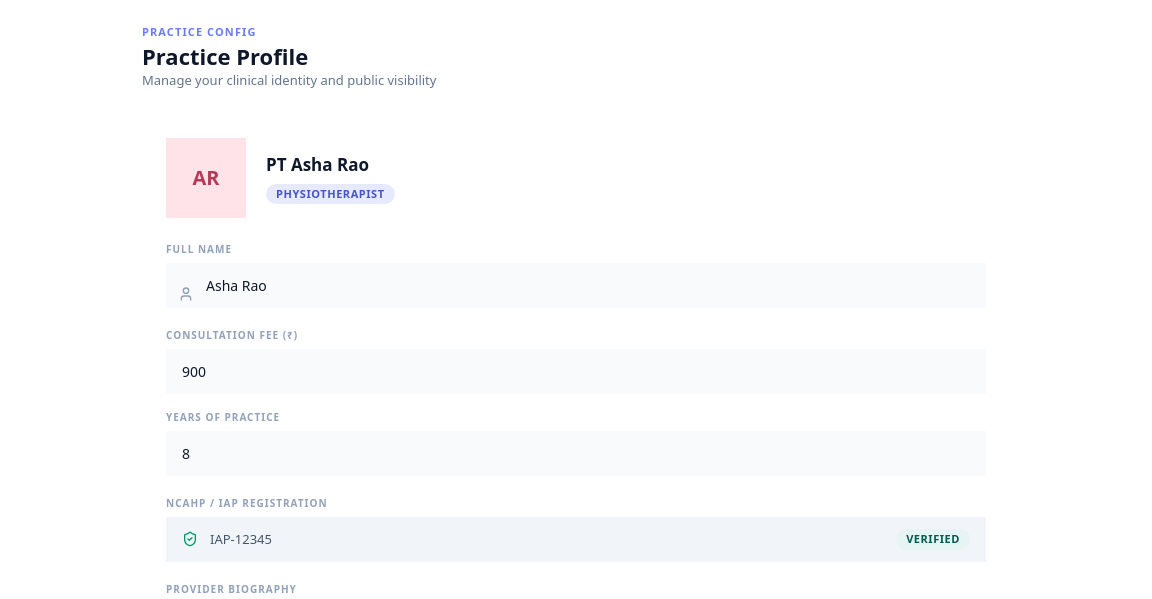
ProviderProfileV2 › enables Save Changes when name is edited
Replace the text in the field with test id "v2-name-input" with "Asha Mehra". click: (576, 286)
box: [166,263,986,308]
(page scrolled)
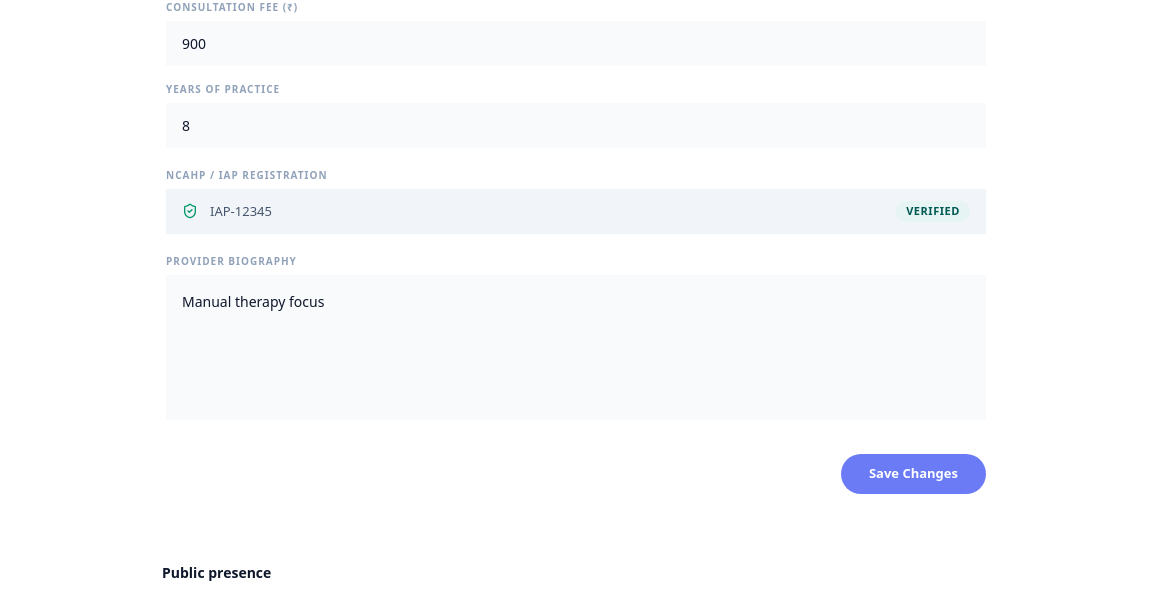
Expected: the button with test id "v2-save-btn" is enabled, [841,454,986,494]
